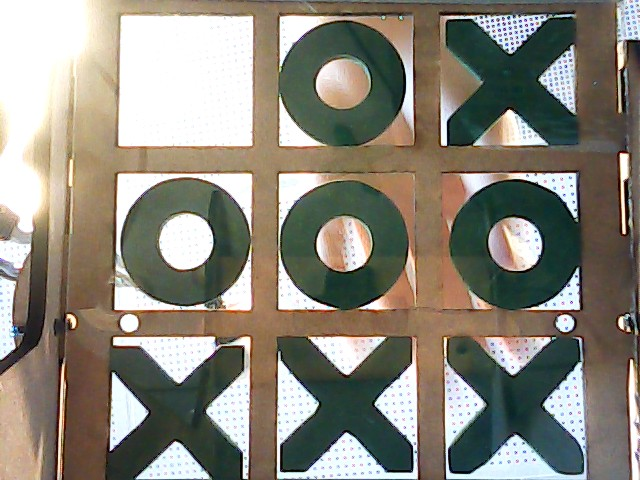O: (442, 180, 580, 309), (278, 178, 415, 305), (117, 174, 248, 306), (281, 18, 414, 136)
X: (442, 335, 587, 475), (278, 337, 416, 476), (443, 16, 582, 144), (113, 344, 246, 477)
